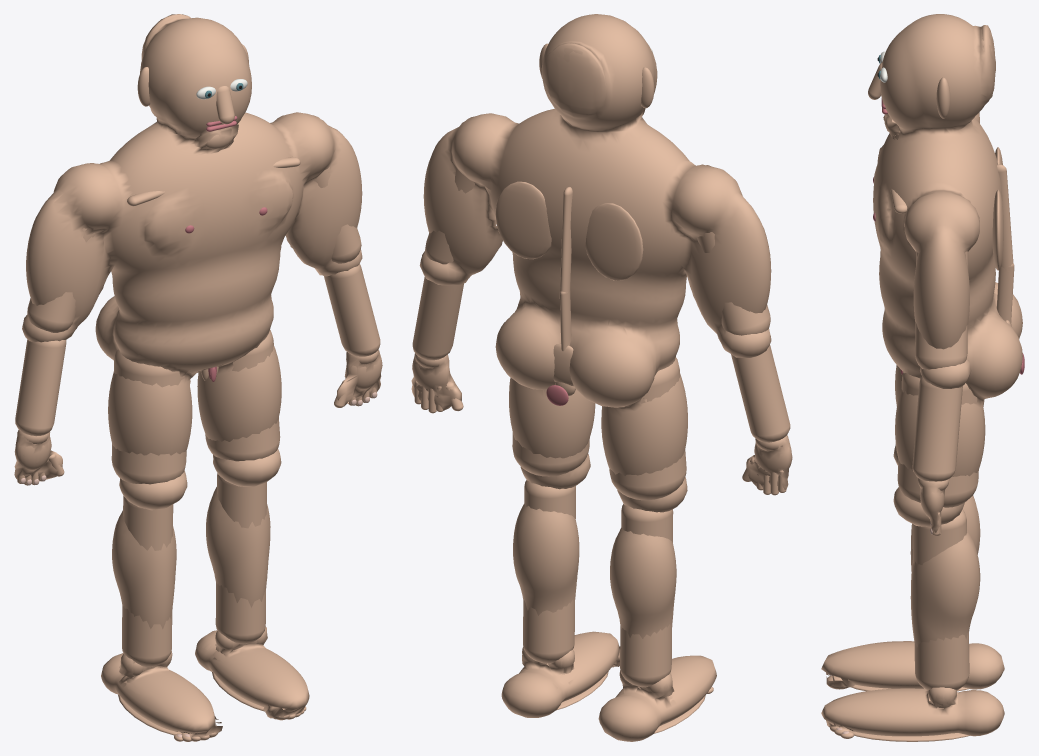
Rendered from body-kind-weiblich-v2.glb.
3 renders of one model, left to right at view 1: azimuth 30°, elevation 25°; view 2: azimuth 150°, elevation 25°; view 3: azimuth 270°, elevation 25°, orthographic. The views are drawn at different scales.
Visible parts, largest first — view 1: zone__visual-surface-body-kind-weiblich, zone__surface-lower-leg-left, zone__surface-lower-leg-right, zone__surface-forearm-left, zone__surface-thigh-left, zone__surface-forearm-right, zone__surface-thigh-right, zone__surface-upper-arm-left, zone__surface-upper-arm-right; view 2: zone__visual-surface-body-kind-weiblich, zone__surface-lower-leg-left, zone__surface-lower-leg-right, zone__surface-forearm-left, zone__surface-scapula-left, zone__surface-scapula-right, zone__surface-forearm-right, zone__surface-thigh-left, zone__surface-upper-arm-left, zone__surface-thigh-right, zone__surface-thoracic-spine, zone__surface-upper-arm-right (+2 smaller); view 3: zone__visual-surface-body-kind-weiblich, zone__surface-lower-leg-right, zone__surface-forearm-right, zone__surface-thigh-right, zone__surface-upper-arm-right, zone__surface-thoracic-spine, zone__surface-lumbar-spine, zone__surface-scapula-right, zone__surface-sole-right, zone__surface-ear-right.
Boxes of the visible parts, bbox=[...] form: zone__visual-surface-body-kind-weiblich: bbox=[14, 14, 382, 736]; zone__surface-lower-leg-left: bbox=[122, 495, 173, 667]; zone__surface-lower-leg-right: bbox=[215, 473, 266, 644]; zone__surface-forearm-left: bbox=[15, 339, 66, 436]; zone__surface-thigh-left: bbox=[111, 349, 186, 484]; zone__surface-forearm-right: bbox=[324, 264, 380, 356]; zone__surface-thigh-right: bbox=[205, 330, 280, 461]; zone__surface-upper-arm-left: bbox=[27, 228, 95, 332]; zone__surface-upper-arm-right: bbox=[314, 167, 361, 263]; zone__visual-surface-body-kind-weiblich: bbox=[411, 14, 792, 741]; zone__surface-lower-leg-left: bbox=[620, 504, 673, 687]; zone__surface-lower-leg-right: bbox=[523, 480, 575, 663]; zone__surface-forearm-left: bbox=[731, 345, 790, 442]; zone__surface-scapula-left: bbox=[585, 203, 643, 280]; zone__surface-scapula-right: bbox=[495, 181, 551, 259]; zone__surface-forearm-right: bbox=[412, 277, 463, 360]; zone__surface-thigh-left: bbox=[609, 357, 686, 500]; zone__surface-upper-arm-left: bbox=[696, 232, 770, 335]; zone__surface-thigh-right: bbox=[512, 433, 589, 476]; zone__surface-thoracic-spine: bbox=[560, 186, 572, 297]; zone__surface-upper-arm-right: bbox=[425, 168, 474, 264]; zone__visual-surface-body-kind-weiblich: bbox=[821, 14, 1022, 736]; zone__surface-lower-leg-right: bbox=[912, 509, 969, 690]; zone__surface-forearm-right: bbox=[912, 376, 962, 481]; zone__surface-thigh-right: bbox=[897, 373, 978, 507]; zone__surface-upper-arm-right: bbox=[915, 251, 968, 369]; zone__surface-thoracic-spine: bbox=[997, 164, 1013, 271]; zone__surface-lumbar-spine: bbox=[996, 263, 1014, 323]; zone__surface-scapula-right: bbox=[992, 189, 1003, 270]; zone__surface-sole-right: bbox=[850, 730, 969, 741]; zone__surface-ear-right: bbox=[936, 77, 950, 118].
Bounding box in the file's own units: 0.8091 × 1.42 × 0.3803.
